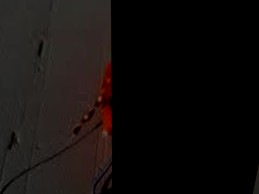chock: (95, 0, 259, 174)
